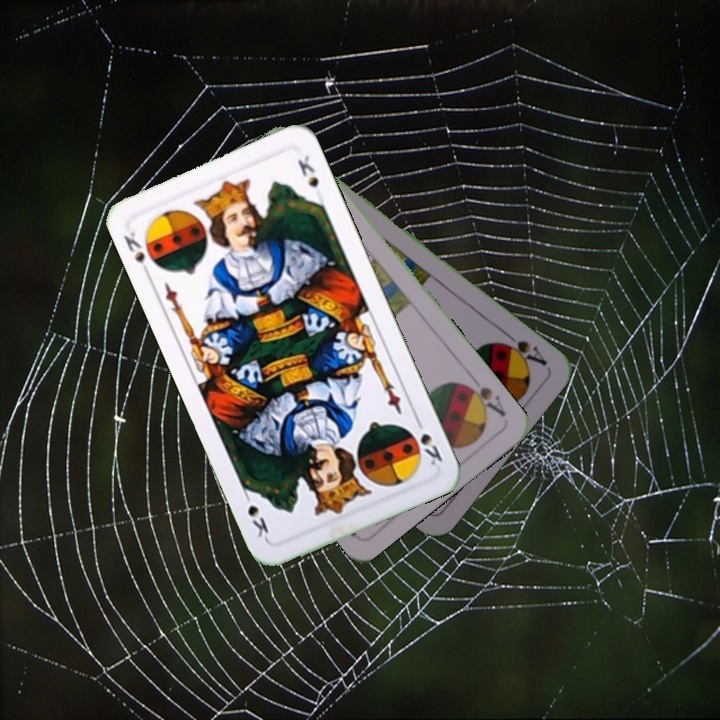SA: (458, 371, 509, 420), (493, 327, 550, 369)
SK: (411, 413, 445, 469), (119, 227, 154, 279)
